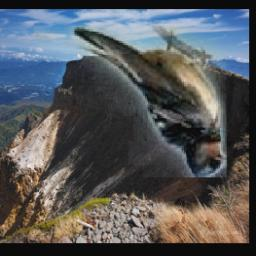Swallow: (34, 26, 227, 177)
